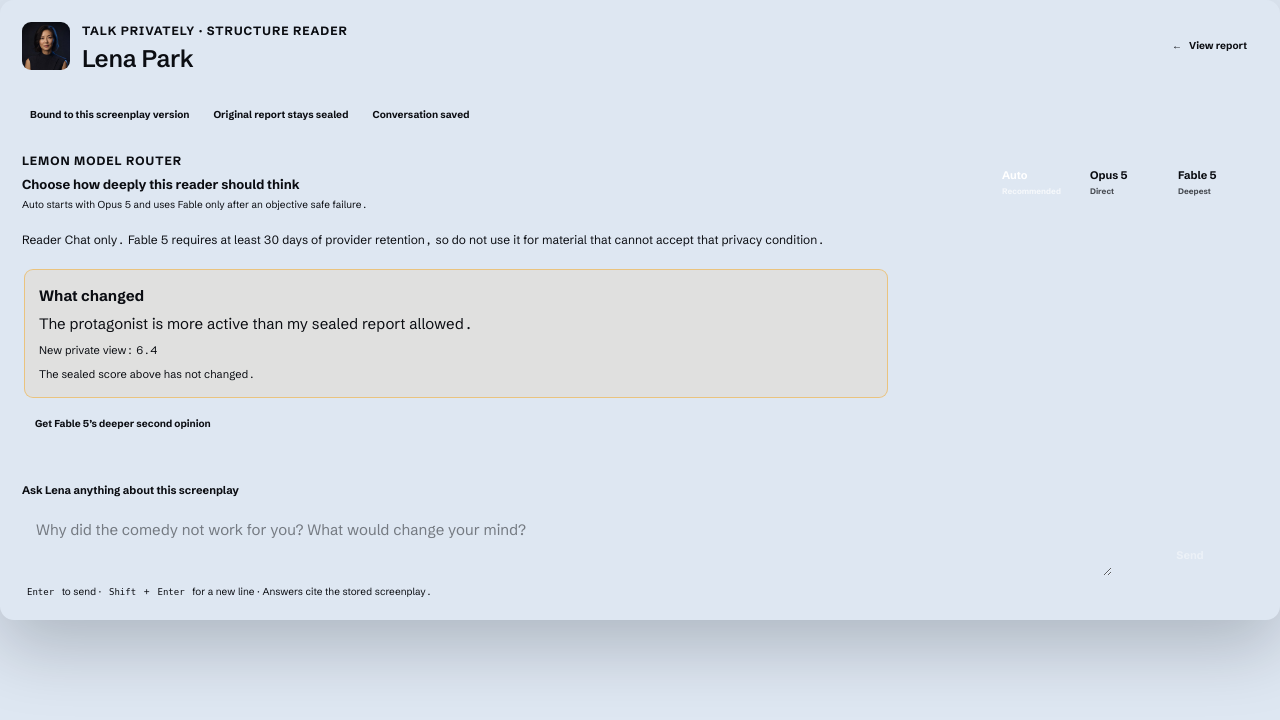
Test: PrivateReaderChat › restores a failed question to the composer
The width and height of the screenshot is (1280, 720).
(page scrolled)
Type "Do not lose this question." into the text box labelled "Ask Lena anything about this screenplay".
click(567, 542); type("Do not lose this question.")  # box [22,507,1112,576]
Then press Enter
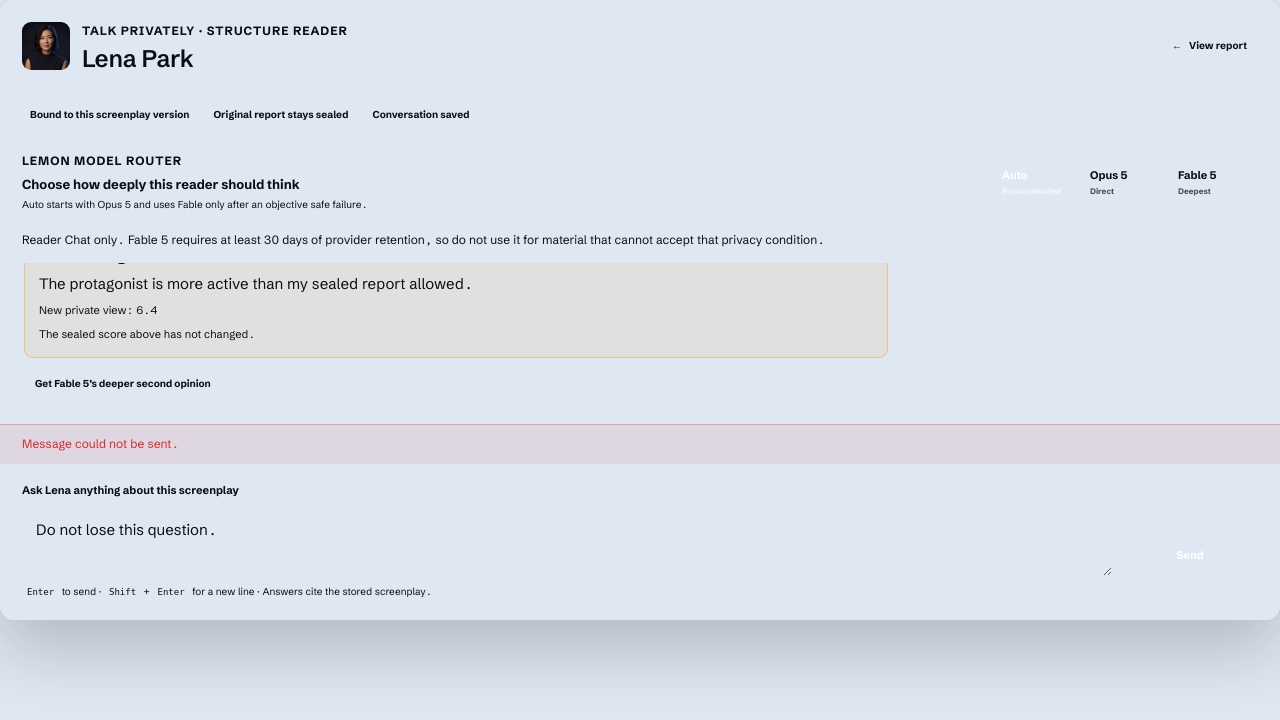
Result: the message reads "Message could not be sent." at [22,436,179,451]
